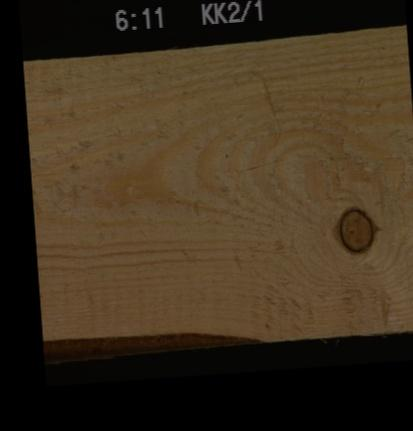dry_knot: (336, 204, 375, 252)
split: (237, 158, 284, 169)
wave: (43, 330, 269, 352)
